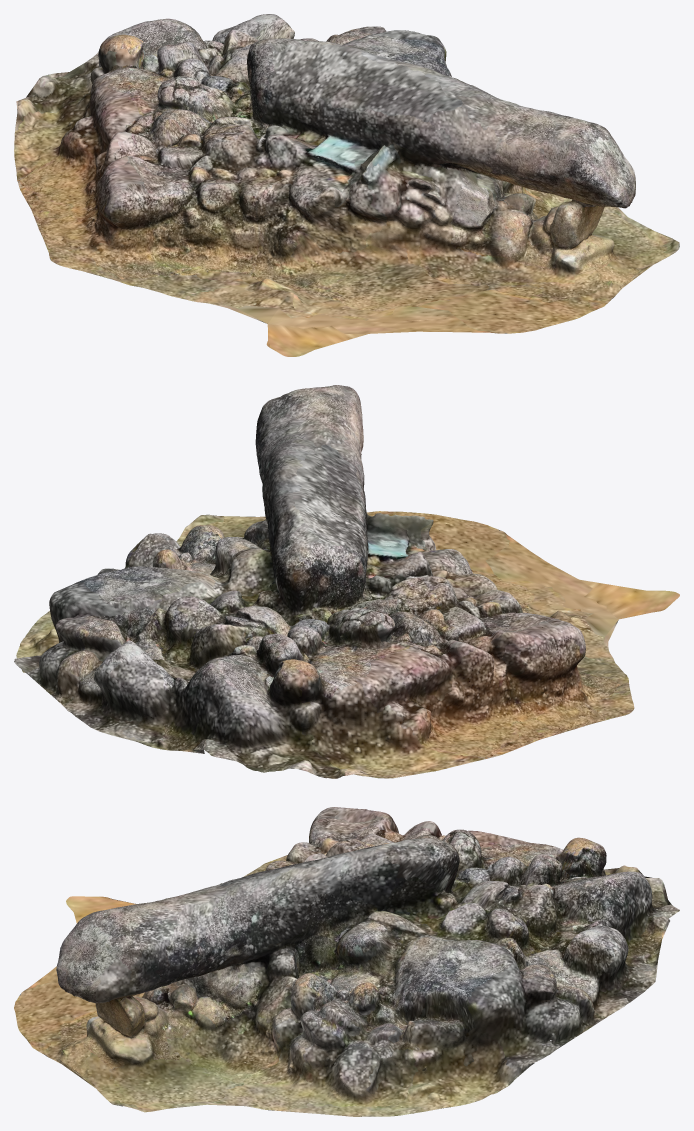
File: bedug.glb
3 views of the same model, one above another, from view 1: azimuth 30°, elevation 25°; view 2: azimuth 150°, elevation 25°; view 3: azimuth 270°, elevation 25° (orthographic). The views are drawn at different scales.
Visible parts, largest first — view 1: mesh; view 2: mesh; view 3: mesh.
Boxes of the visible parts, bbox=[...] form: mesh: bbox=[14, 14, 679, 356]; mesh: bbox=[14, 385, 679, 778]; mesh: bbox=[14, 807, 679, 1116].
Bounding box in the file's own units: 3.21 × 0.9356 × 3.55.
1 material, 1 textured.
